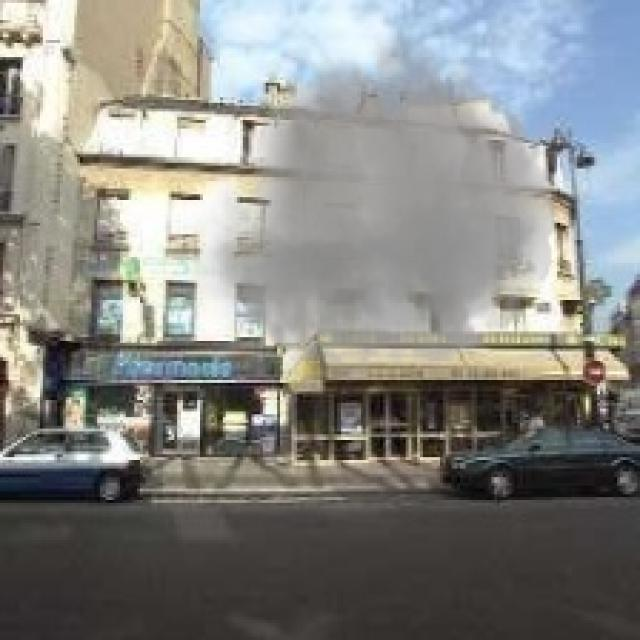smoke: (180, 14, 566, 400)
